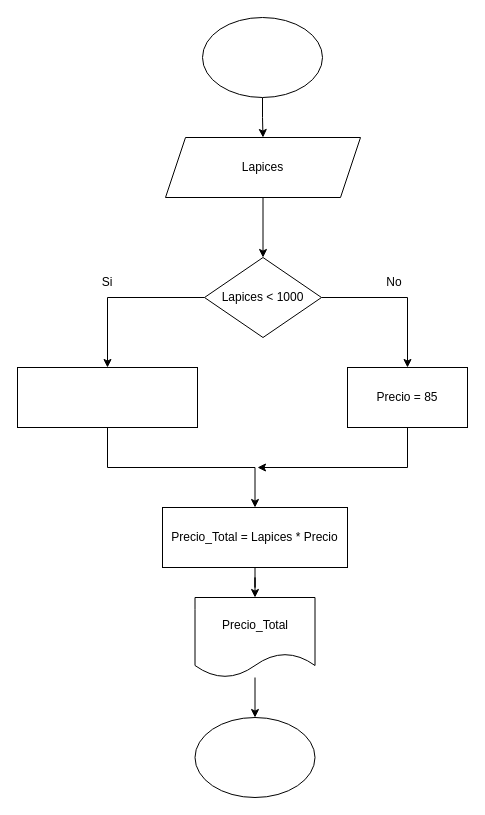
Image size: 485x815. Some labels were removed from this diagram. The shapes that lost their labels are listed below. From the top down, each one's centre as x and y in pixels, then its label:
point 262,57: Inicio
point 107,397: Precio = 90
point 254,757: Fin
